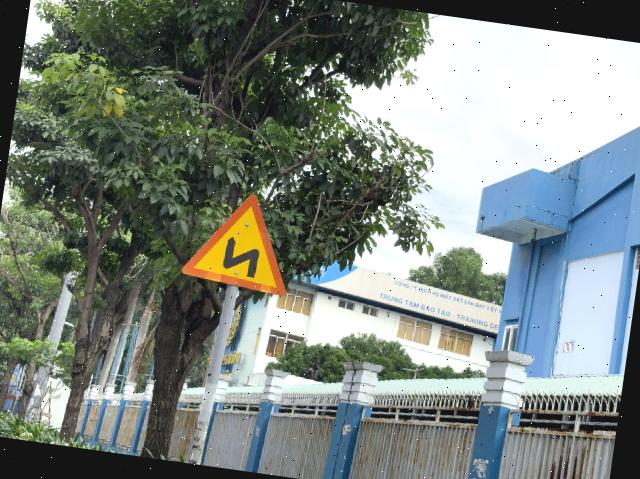nhieu-cho-ngoat-nguy-hiem-lien-tiep: (180, 185, 299, 297)
